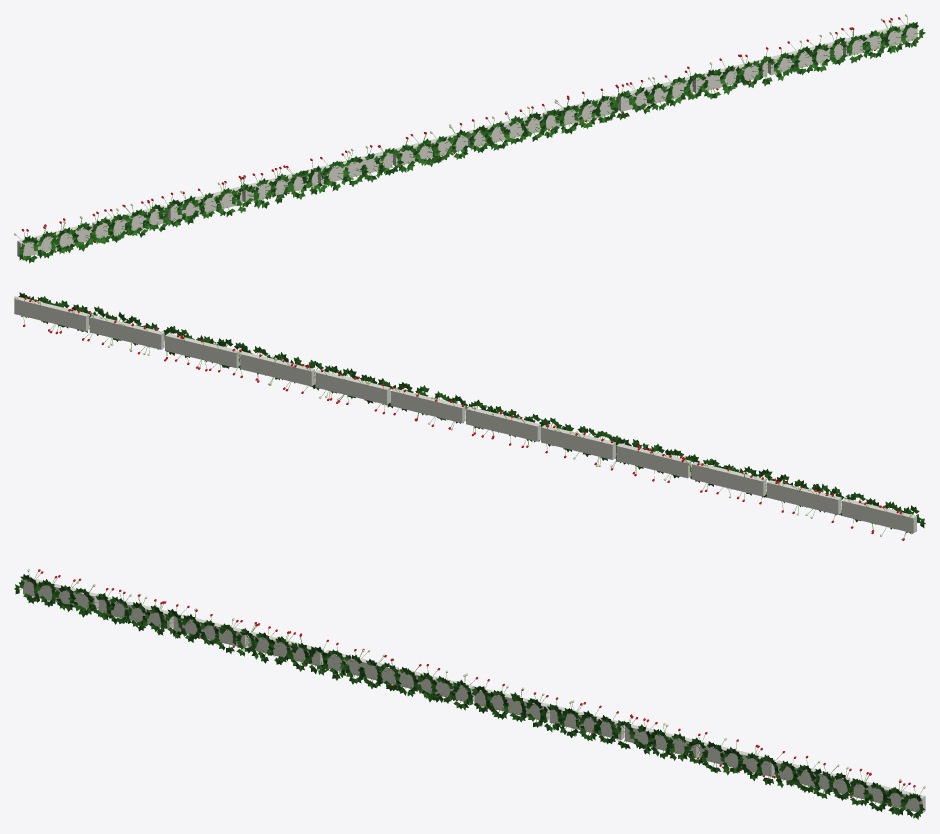
The model's file is row31.obj.
The picture shows the model from 3 angles, top to bottom: view 1: azimuth 30°, elevation 25°; view 2: azimuth 150°, elevation 25°; view 3: azimuth 330°, elevation 25°; orthographic projection.
Visible parts, largest first — view 1: row31; view 2: row31; view 3: row31.
Boxes of the visible parts, x1,y1,x2,y2 form: row31: [14, 14, 925, 263]; row31: [14, 292, 925, 540]; row31: [14, 569, 925, 819].
Size of the model in its own units: 12.61 by 0.4348 by 0.2713.
